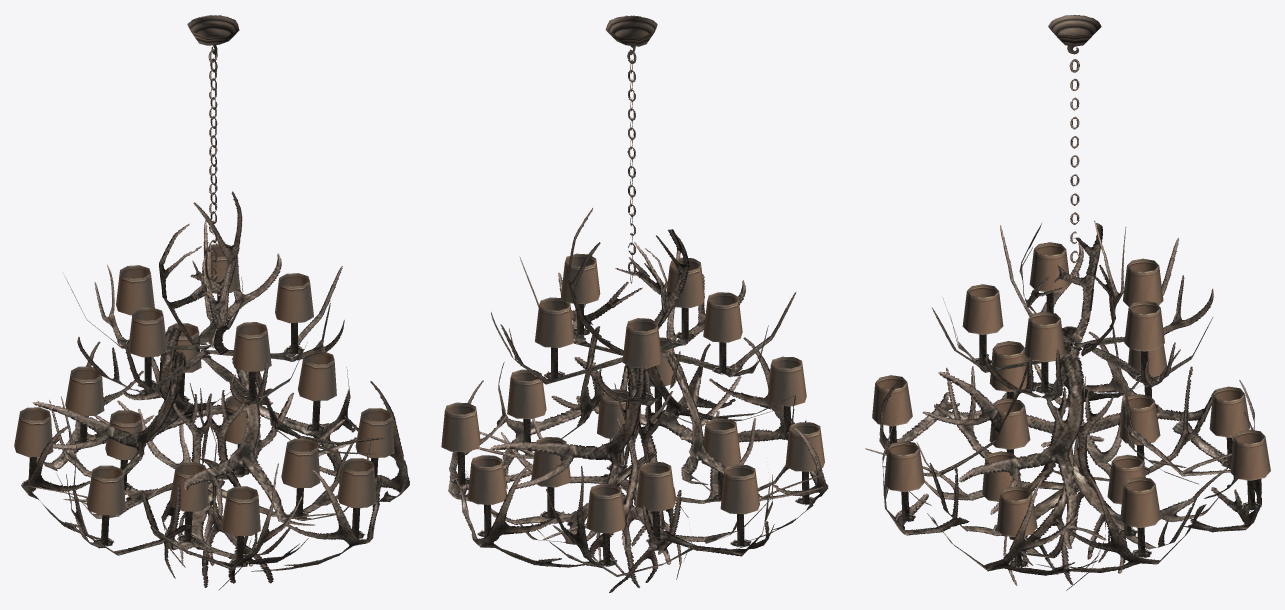
The model's file is Chandelier01.FBX.
The picture shows the model from 3 angles, left to right: view 1: azimuth 30°, elevation 25°; view 2: azimuth 150°, elevation 25°; view 3: azimuth 270°, elevation 25°; orthographic projection.
Visible parts, largest first — view 1: Chandelier01; view 2: Chandelier01; view 3: Chandelier01.
Part boxes in pixels (bbox=[...]): Chandelier01: bbox=[14, 15, 409, 590]; Chandelier01: bbox=[441, 15, 828, 592]; Chandelier01: bbox=[865, 15, 1270, 590].
Size of the model in its own units: 169 by 250 by 168.
